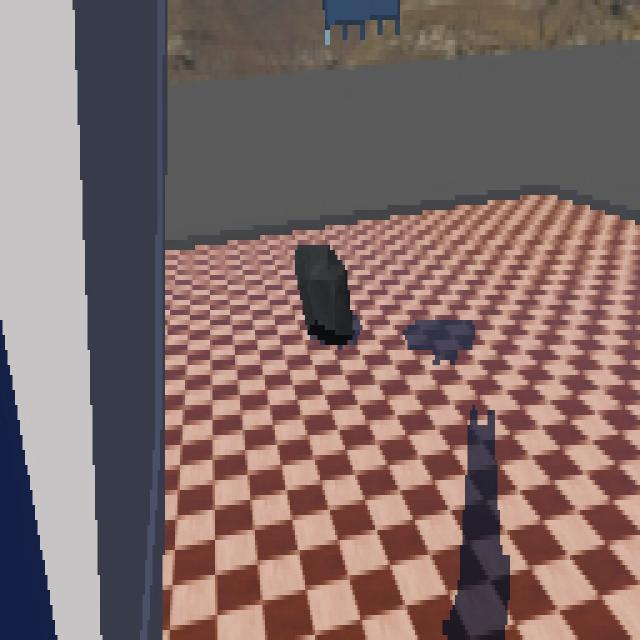rock: (293, 240, 356, 348)
